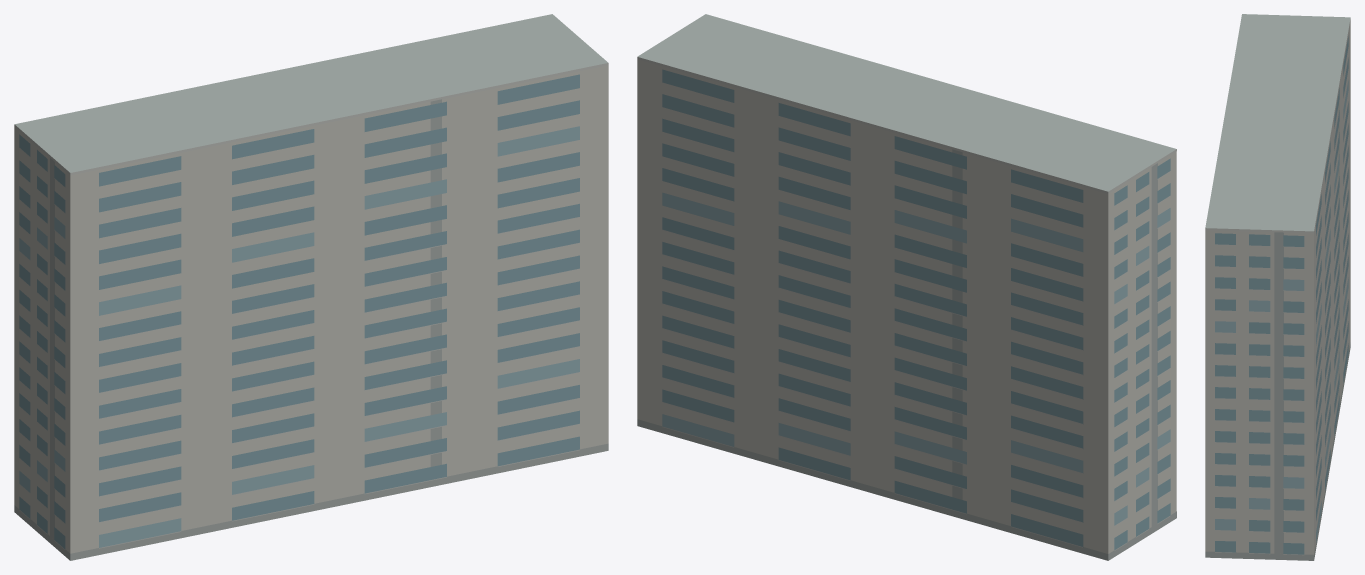
File: residential-8e61677b-8c24-4c56-8a57-803df2d1376c.glb
The picture shows the model from 3 angles, left to right: view 1: azimuth 30°, elevation 25°; view 2: azimuth 150°, elevation 25°; view 3: azimuth 270°, elevation 25°; orthographic projection. The views are drawn at different scales.
Parts seen in each view (by area): view 1: residential-8e61677b-8c24-4c56-8a57-803df2d1376c.tmp; view 2: residential-8e61677b-8c24-4c56-8a57-803df2d1376c.tmp; view 3: residential-8e61677b-8c24-4c56-8a57-803df2d1376c.tmp.
Boxes of the visible parts, <box> form: residential-8e61677b-8c24-4c56-8a57-803df2d1376c.tmp: <box>14,14,608,560</box>; residential-8e61677b-8c24-4c56-8a57-803df2d1376c.tmp: <box>637,14,1176,560</box>; residential-8e61677b-8c24-4c56-8a57-803df2d1376c.tmp: <box>1205,14,1350,560</box>.
Bounding box in the file's own units: 56.61 × 40 × 16.01.
